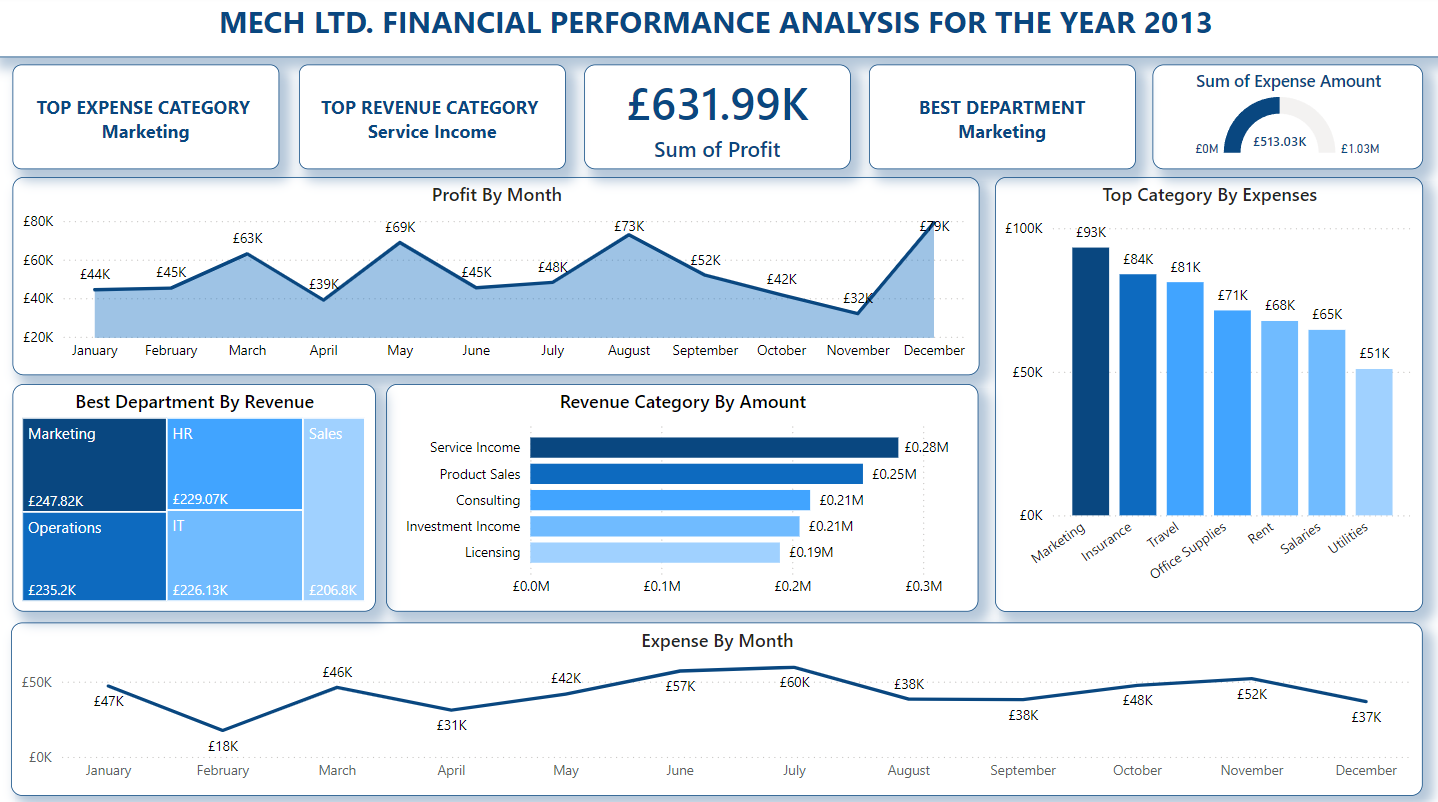

Layout of this report page (visuals, bound fields, positions):
{"tool":"powerbi","page":{"name":"DASHBORD","canvas":[1280,720],"ordinal":0},"visuals":[{"type":"textbox","box":[0,0,1279.5,56],"z":0},{"type":"areaChart","title":"Profit By Month","fields":{"Category":["financial_data_sample.Date.Variation.Date Hierarchy.Month"],"Y":["Sum(financial_data_sample.Profit)"]},"box":[16.7,162,855.5,175.6],"z":1000},{"type":"clusteredColumnChart","title":"Top Category By Expenses","fields":{"Category":["financial_data_sample.Expense Category"],"Y":["Sum(financial_data_sample.Expense Amount)"]},"box":[885.8,162,378.6,384.6],"z":2000},{"type":"clusteredBarChart","title":"Revenue Category By Amount","fields":{"Category":["financial_data_sample.Revenue Category"],"Y":["Sum(financial_data_sample.Revenue Amount)"]},"box":[348.3,345.2,523.9,201.4],"z":3000},{"type":"card","fields":{"Values":["Sum(financial_data_sample.Profit)"]},"box":[522.4,62.1,236.2,92.4],"z":4000},{"type":"gauge","fields":{"Y":["Sum(financial_data_sample.Expense Amount)"]},"box":[1025.1,62.1,239.2,92.4],"z":5000},{"type":"lineChart","title":"Expense By Month","fields":{"Y":["Sum(financial_data_sample.Expense Amount)"],"Category":["financial_data_sample.Date.Variation.Date Hierarchy.Month"]},"box":[16.1,556.5,1248.4,153.2],"z":6000},{"type":"treemap","title":"Best Department By Revenue","fields":{"Group":["financial_data_sample.Department"],"Values":["Sum(financial_data_sample.Revenue Amount)"]},"box":[16.7,345.2,321,201.4],"z":7000},{"type":"textbox","box":[16.7,62.1,236.2,92.4],"z":8000},{"type":"textbox","box":[271,62.1,236.2,92.4],"z":9000},{"type":"textbox","box":[775.3,62.1,236.2,92.4],"z":10000}]}

Visuals, with their boxes in screenshot pixels (x1, y1, x2, y2), scaled from the page's 1280x720 canvas onto the 1438x802 screenshot:
textbox: [left=0, top=0, right=1437, bottom=62]
"Profit By Month" areaChart: [left=19, top=180, right=980, bottom=376]
"Top Category By Expenses" clusteredColumnChart: [left=995, top=180, right=1420, bottom=609]
"Revenue Category By Amount" clusteredBarChart: [left=391, top=385, right=980, bottom=609]
card - Sum(financial_data_sample.Profit): [left=587, top=69, right=852, bottom=172]
gauge - Sum(financial_data_sample.Expense Amount): [left=1152, top=69, right=1420, bottom=172]
"Expense By Month" lineChart: [left=18, top=620, right=1421, bottom=791]
"Best Department By Revenue" treemap: [left=19, top=385, right=379, bottom=609]
textbox: [left=19, top=69, right=284, bottom=172]
textbox: [left=304, top=69, right=570, bottom=172]
textbox: [left=871, top=69, right=1136, bottom=172]
